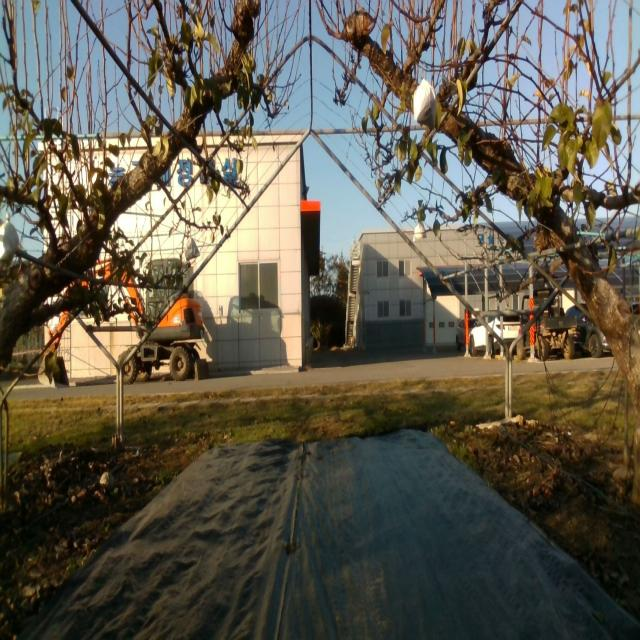pearbags: (414, 81, 439, 129), (0, 213, 20, 263), (185, 235, 200, 260), (411, 222, 426, 244)
